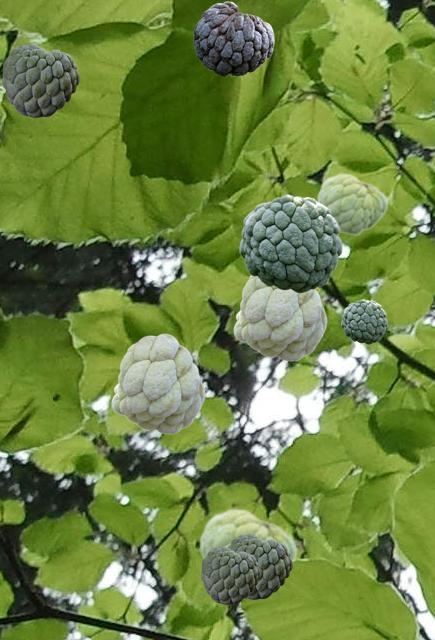atis: (239, 194, 341, 292), (111, 333, 204, 433), (233, 275, 326, 360), (193, 1, 273, 75), (198, 507, 296, 567), (2, 44, 78, 116), (316, 172, 387, 235), (228, 534, 291, 598), (201, 547, 259, 603), (341, 299, 386, 343)
